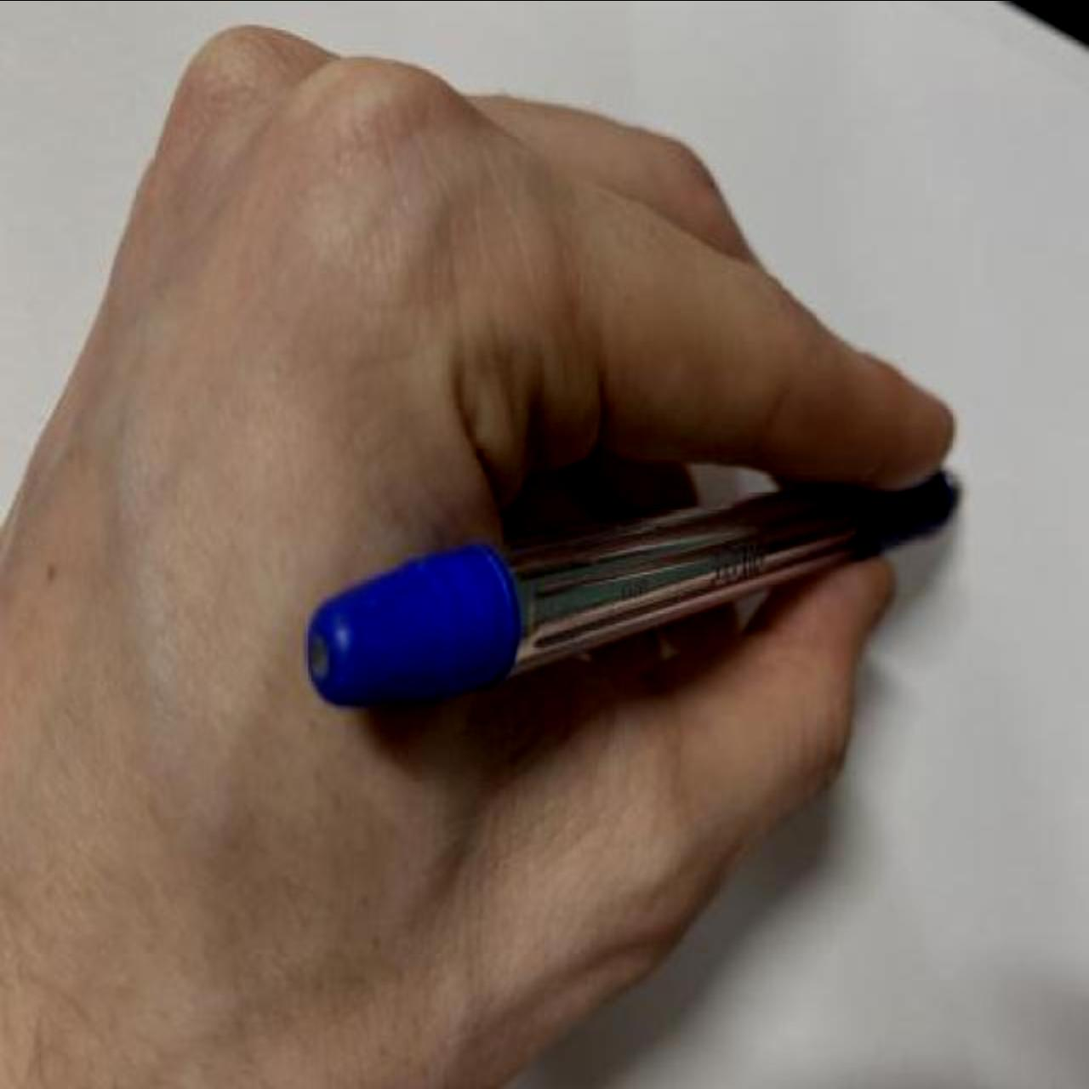pen: (296, 442, 968, 710)
